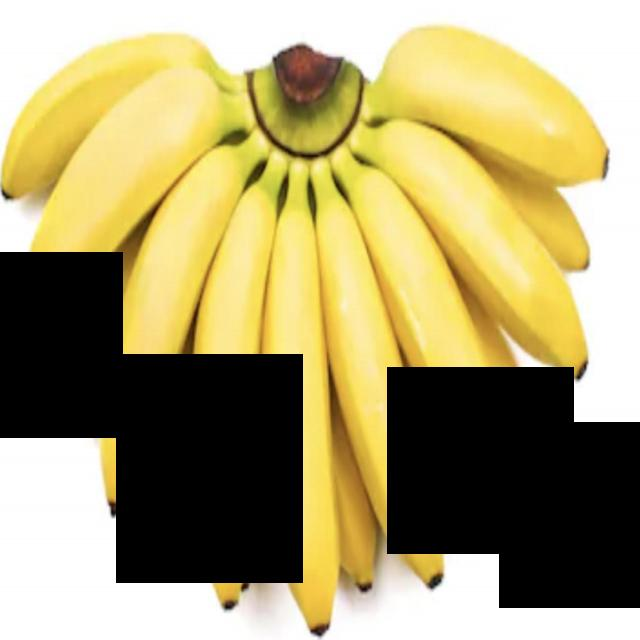banana: (304, 146, 486, 605), (347, 151, 562, 538), (80, 116, 253, 555), (372, 98, 628, 391), (244, 163, 366, 630), (0, 0, 254, 200), (198, 137, 269, 617)
